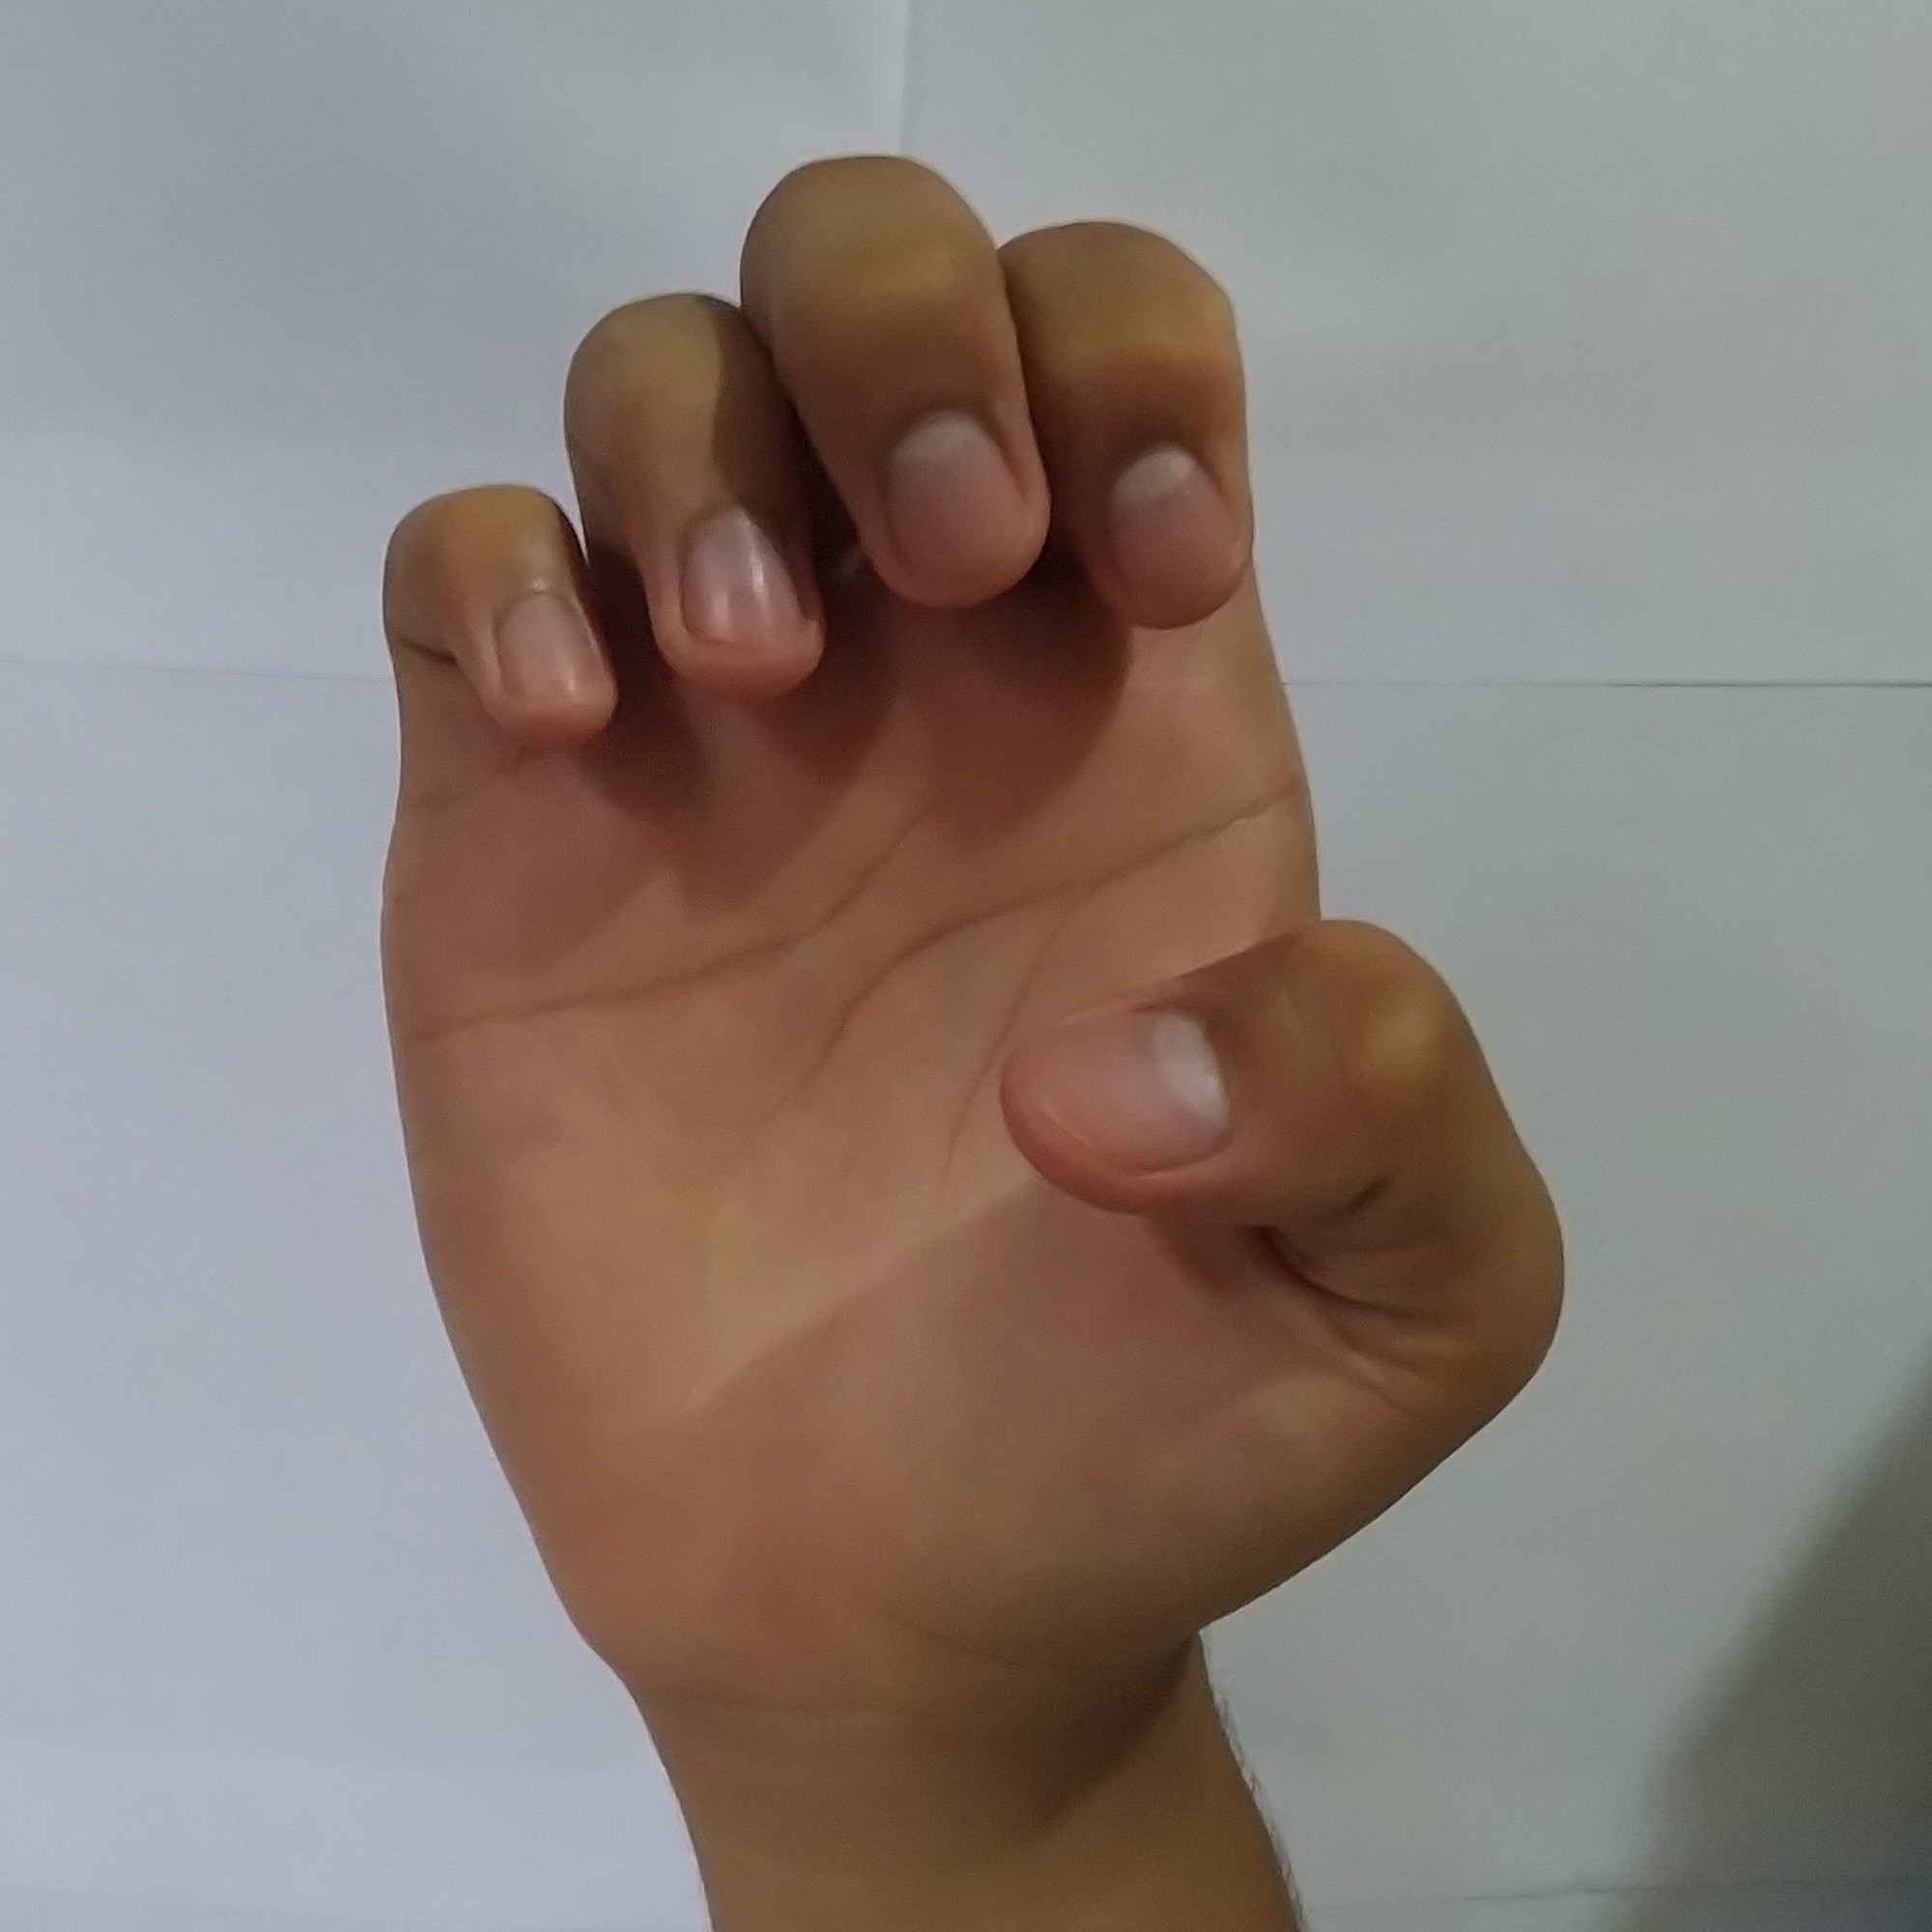E: (352, 134, 1587, 1637)
